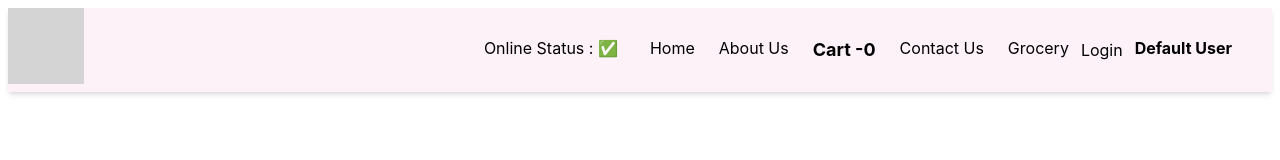
Should Change the Login Button to Logout On Click
Click the button "Login" at (1102, 50), box left=1081, top=36, right=1123, bottom=64
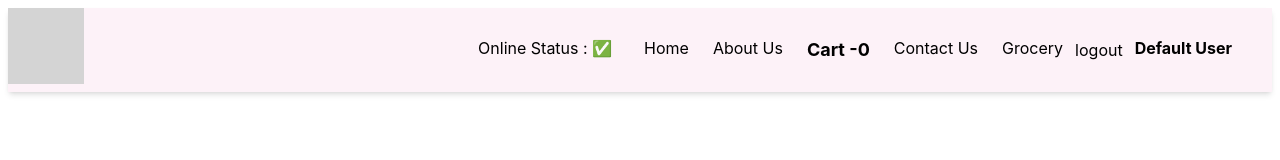
Now the button "logout" is shown, box left=1075, top=36, right=1123, bottom=64
